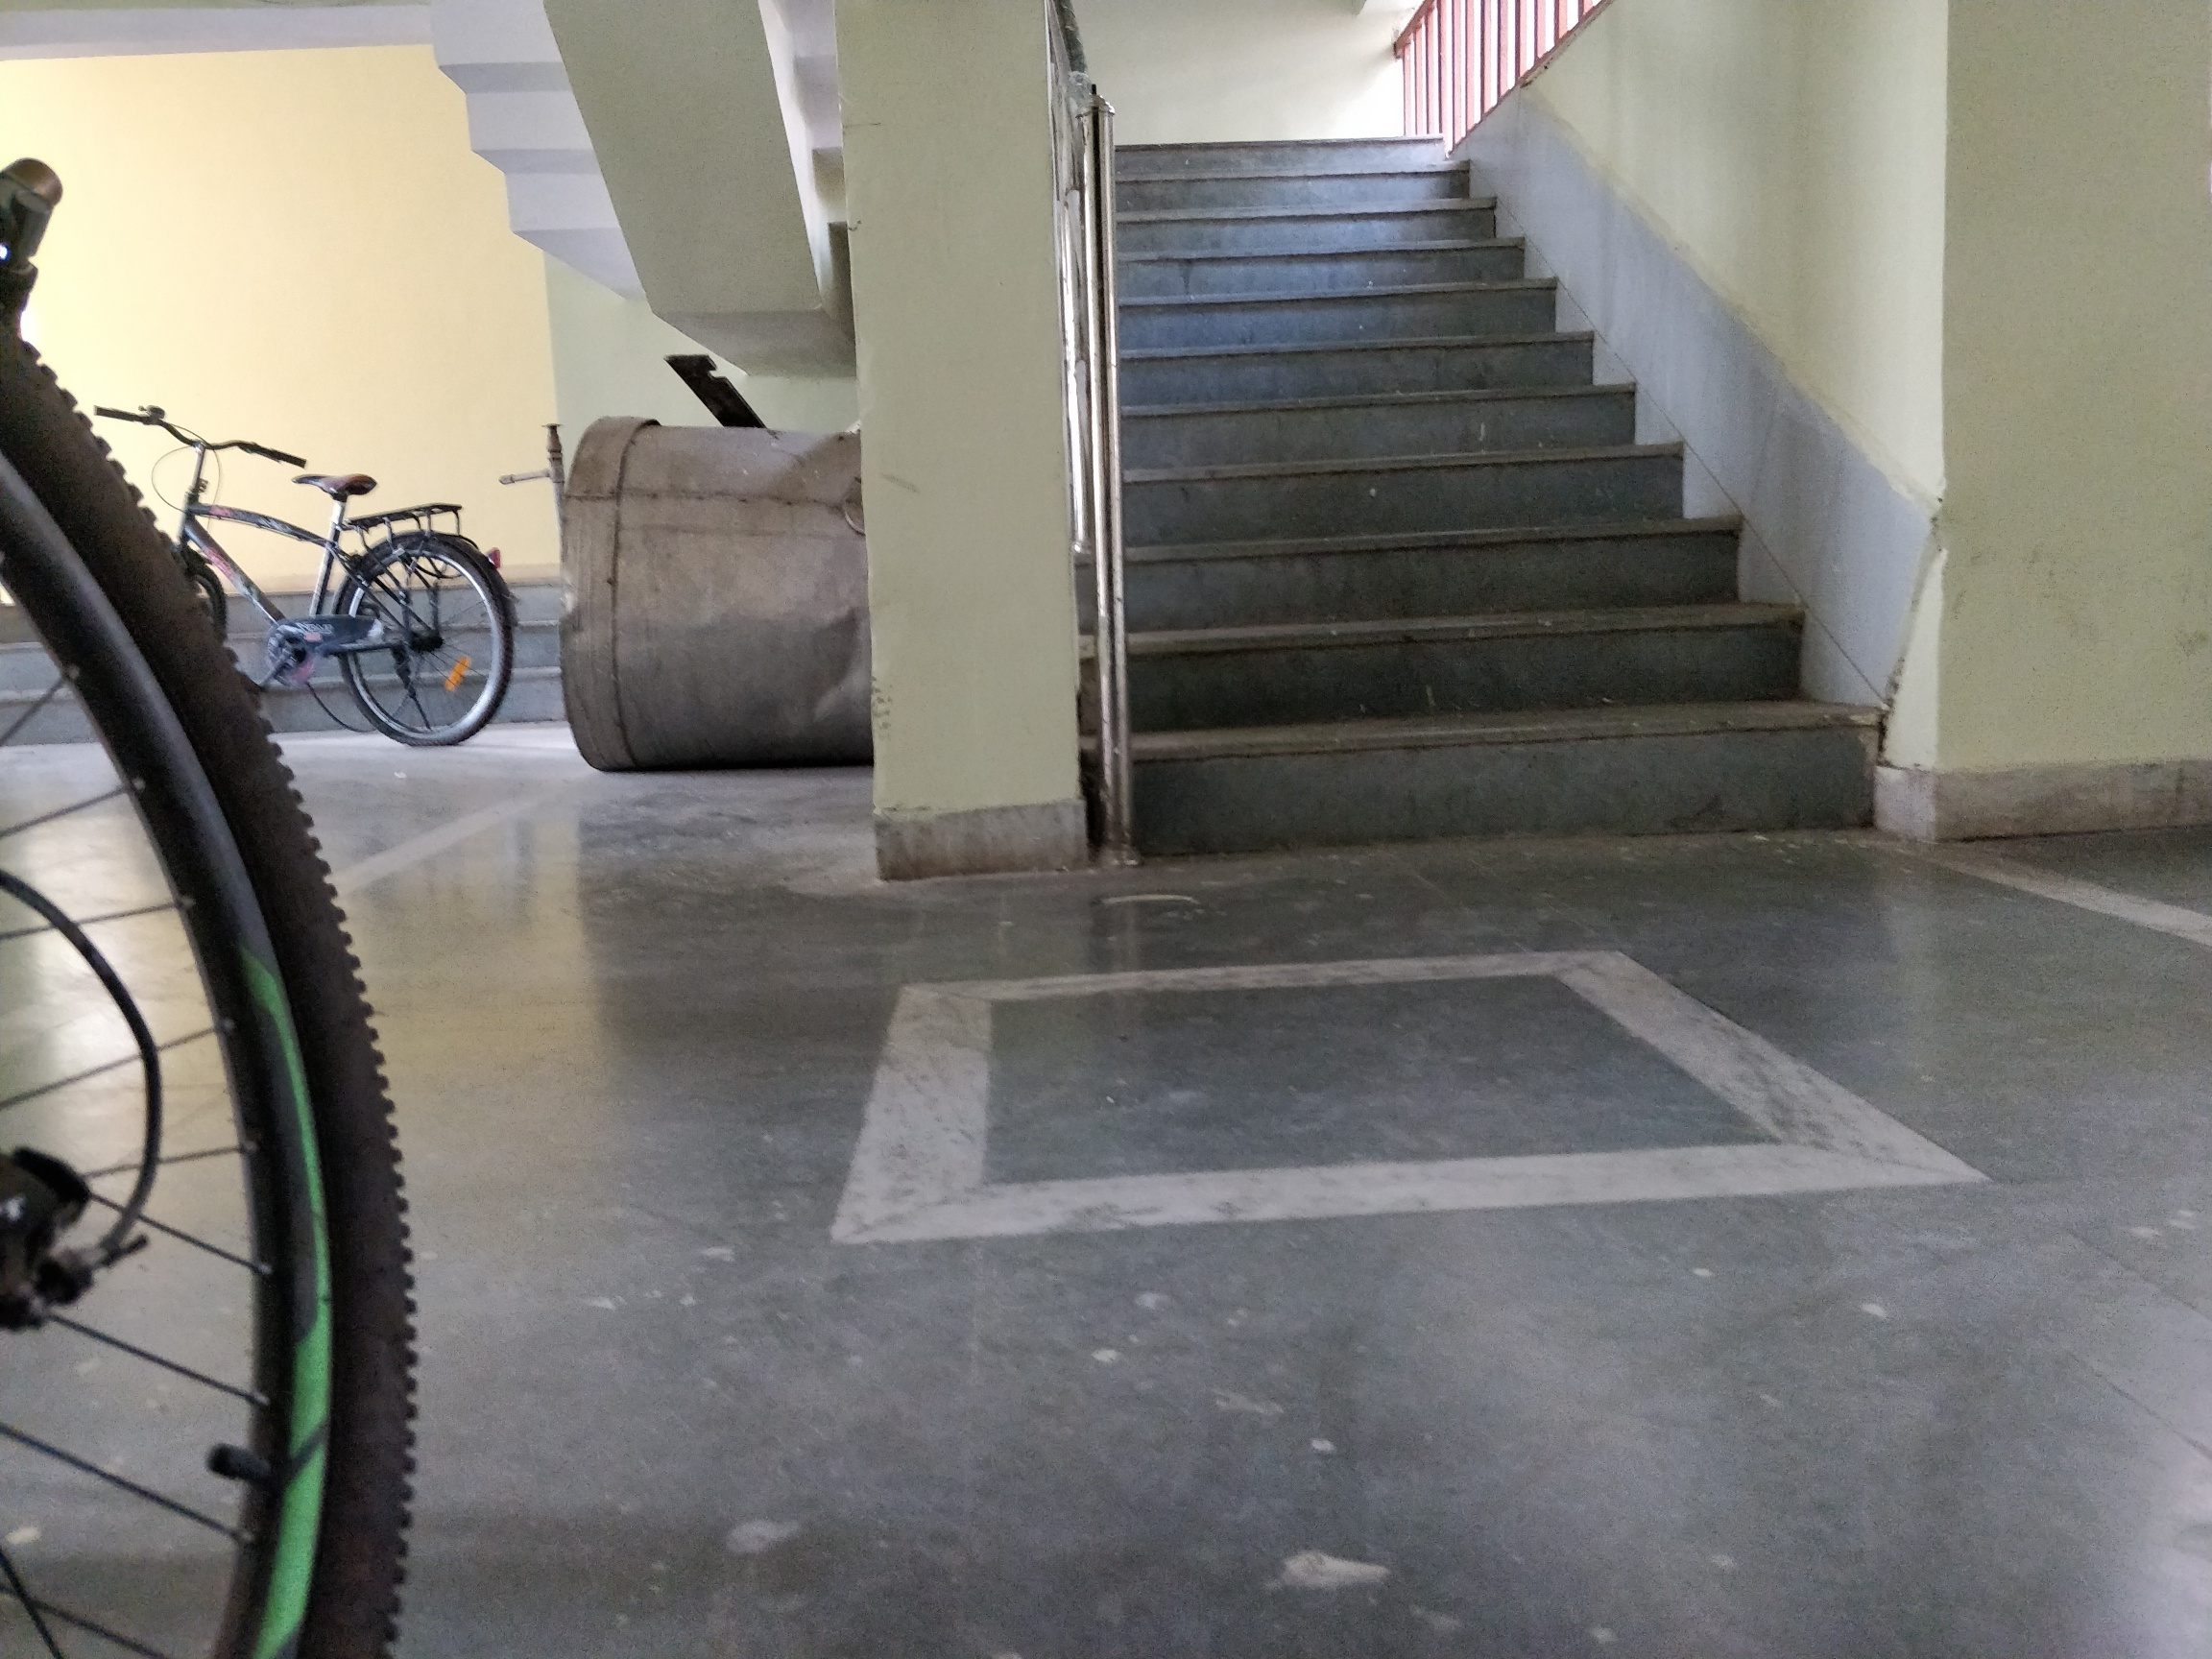stairs_up: (1078, 113, 1857, 852)
